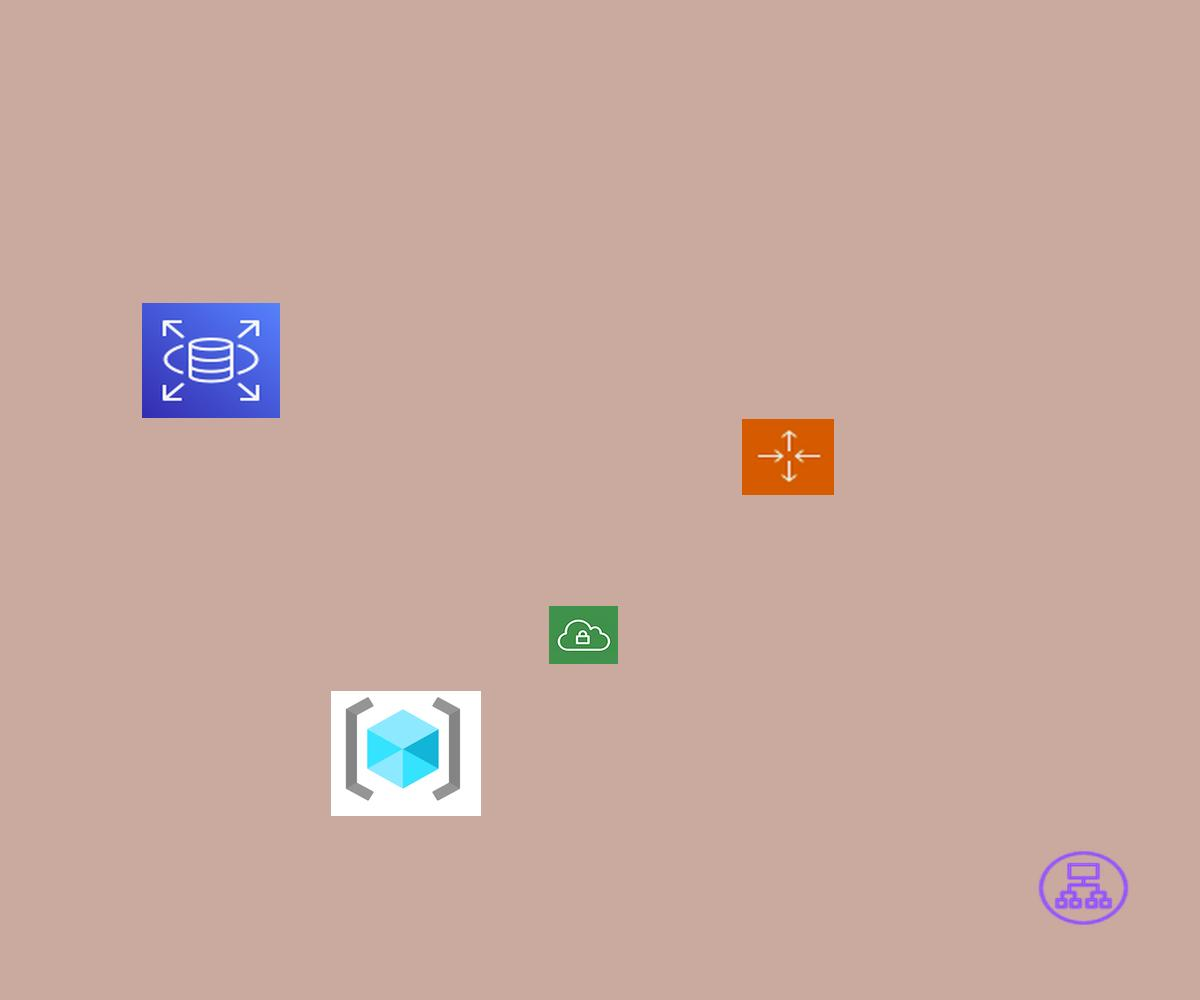AWS-Private_vpc: (549, 606, 618, 664)
AWS-RDS: (142, 303, 280, 418)
AWS-Res_Elastic-Load-Balancing_Application-Load-Balancer: (1035, 848, 1132, 928)
AWS-Scaling-group: (742, 419, 834, 495)
Azure_resource_group: (331, 691, 481, 816)
